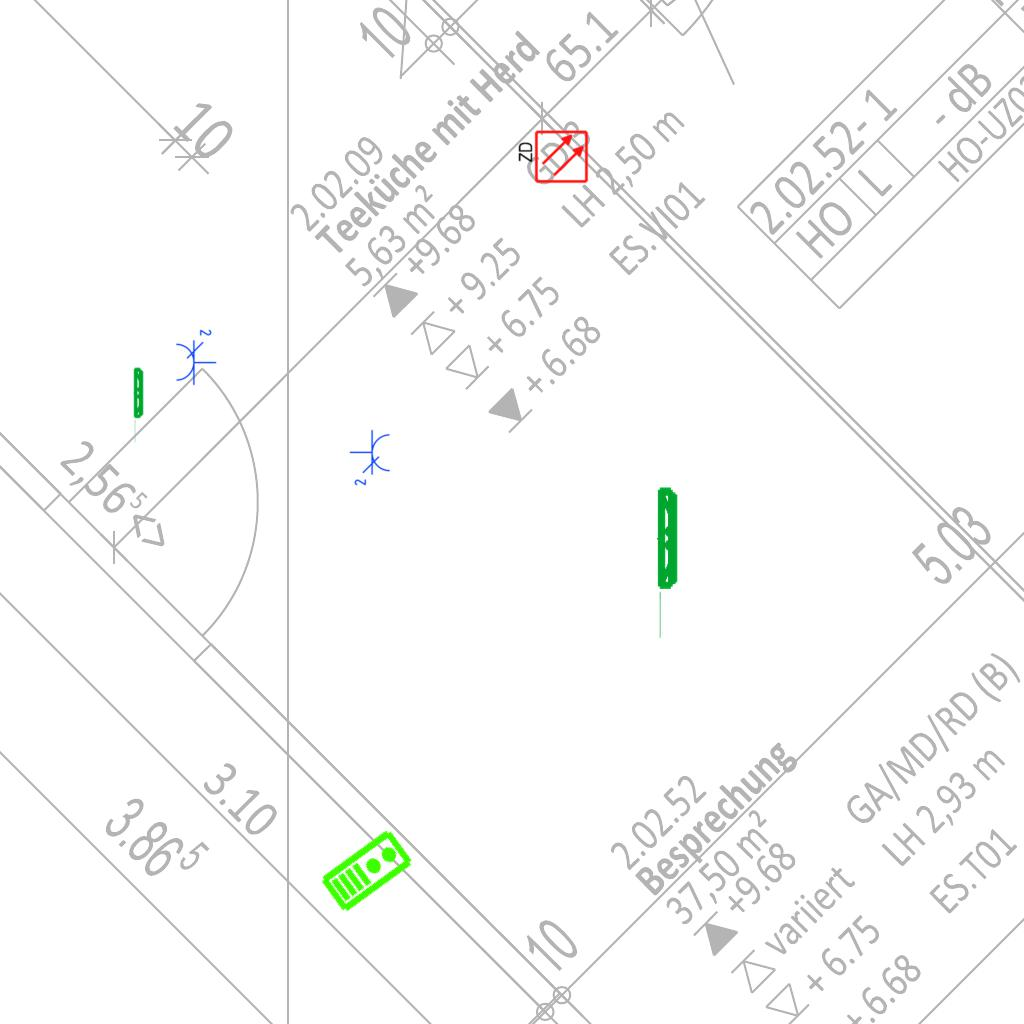Gegensprechanlage_mit_Video: (317, 825, 416, 915)
Schukosteckdose_mehrfach: (349, 429, 393, 489), (173, 326, 217, 386)
Sicherheitsleuchte_Wandeinbau: (656, 484, 681, 643), (133, 366, 145, 445)
ZD_Melder_in_Zwischendecke_mit_Revisionsoeffnung_mind_40_x_40_cm: (515, 129, 589, 186)
